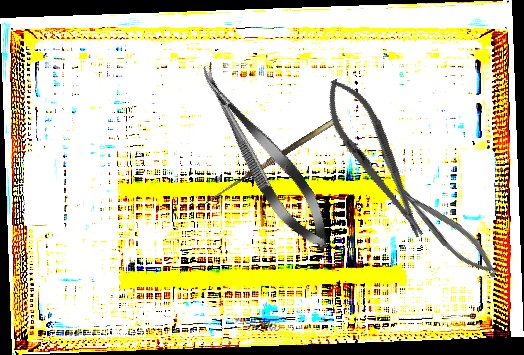Hook Surgical: (202, 115, 346, 212)
Micro Scissor: (185, 55, 343, 260)
Needle Holder: (313, 69, 439, 248), (389, 174, 505, 286)
